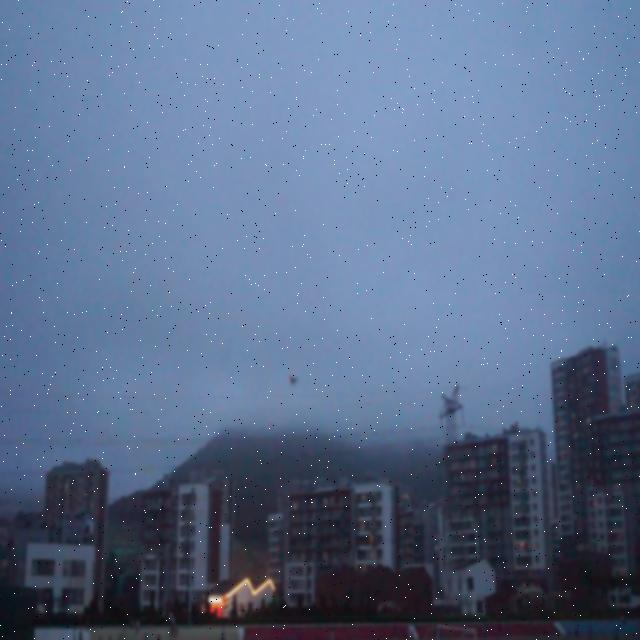UAV: (288, 375, 299, 386)
